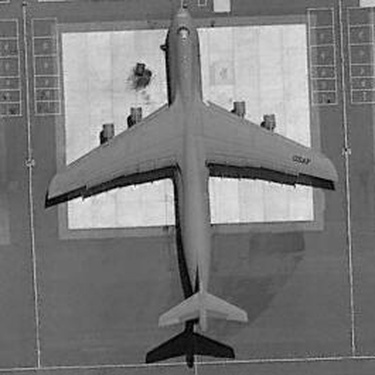airplane: (19, 1, 353, 350)
